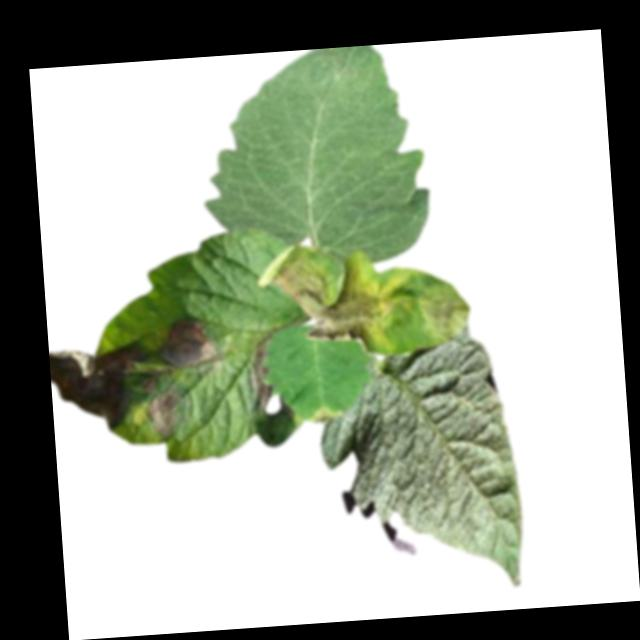Late_blight: (255, 239, 391, 347), (48, 341, 155, 437), (156, 316, 228, 372), (416, 284, 474, 343), (249, 333, 284, 415), (145, 388, 184, 444), (309, 406, 346, 422)
healthy: (312, 337, 528, 600), (198, 41, 435, 272)
